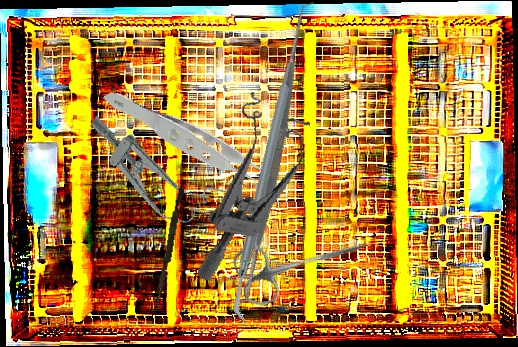Chopper: (152, 81, 374, 327)
Iris Scissors: (230, 212, 379, 310)
Pusher: (154, 186, 185, 311)
Spatula Surgical: (121, 0, 426, 310)
Speculum: (70, 104, 241, 248), (196, 88, 315, 294)
Tissue Forceps: (100, 43, 283, 251)
